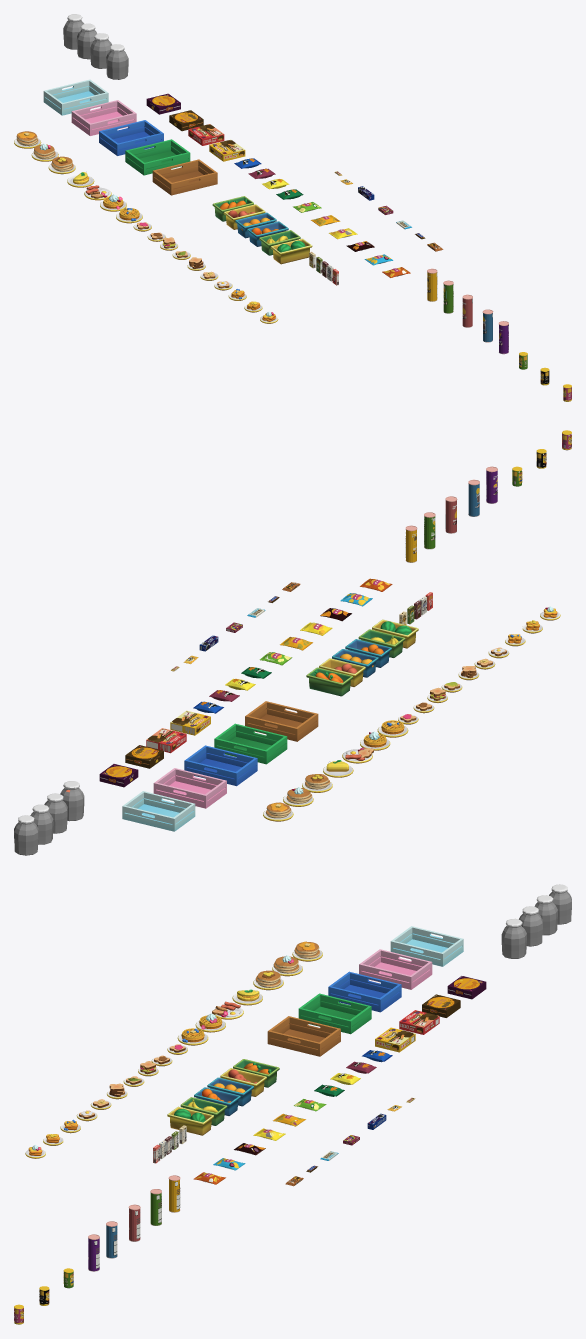
Rendered from kitchen_01.FBX.
3 renders of one model, top to bottom at view 1: azimuth 30°, elevation 25°; view 2: azimuth 150°, elevation 25°; view 3: azimuth 330°, elevation 25°, orthographic. The views are drawn at different scales.
Visible parts, largest first — view 1: WoodCrate_Large, WoodCrate_Large004, WoodCrate_Large001, WoodCrate_Large003, WoodCrate_Large002, watermelons, bottle_01, bottle_02, snacks01, snacks026, bottle_03, bottle_04 (+7 smaller); view 2: WoodCrate_Large004, WoodCrate_Large003, WoodCrate_Large, WoodCrate_Large002, WoodCrate_Large001, carrot, bottle_04, bottle_01, snacks026, snacks01, bottle_03, bottle_02 (+7 smaller); view 3: WoodCrate_Large, WoodCrate_Large004, WoodCrate_Large003, WoodCrate_Large001, WoodCrate_Large002, watermelons, bottle_01, bottle_02, snacks01, snacks026, bottle_03, snacks03 (+7 smaller).
Boxes of the visible parts, bbox=[...] form: WoodCrate_Large: bbox=[152, 159, 217, 195]; WoodCrate_Large004: bbox=[43, 79, 108, 115]; WoodCrate_Large001: bbox=[125, 139, 190, 175]; WoodCrate_Large003: bbox=[71, 100, 136, 135]; WoodCrate_Large002: bbox=[99, 120, 163, 155]; watermelons: bbox=[270, 238, 312, 264]; bottle_01: bbox=[106, 44, 128, 79]; bottle_02: bbox=[90, 33, 111, 68]; snacks01: bbox=[188, 124, 224, 145]; snacks026: bbox=[209, 139, 245, 161]; bottle_03: bbox=[76, 23, 97, 59]; bottle_04: bbox=[63, 14, 84, 49]; WoodCrate_Large004: bbox=[122, 791, 195, 831]; WoodCrate_Large003: bbox=[153, 768, 226, 808]; WoodCrate_Large: bbox=[245, 701, 318, 741]; WoodCrate_Large002: bbox=[184, 745, 257, 786]; WoodCrate_Large001: bbox=[214, 723, 287, 764]; carrot: bbox=[306, 667, 352, 696]; bottle_04: bbox=[14, 815, 38, 855]; bottle_01: bbox=[60, 781, 84, 821]; snacks026: bbox=[170, 710, 210, 735]; snacks01: bbox=[146, 728, 186, 753]; bottle_03: bbox=[30, 804, 53, 844]; bottle_02: bbox=[44, 793, 67, 833]; WoodCrate_Large: bbox=[267, 1016, 340, 1056]; WoodCrate_Large004: bbox=[390, 926, 463, 966]; WoodCrate_Large003: bbox=[359, 949, 432, 989]; WoodCrate_Large001: bbox=[298, 993, 371, 1034]; WoodCrate_Large002: bbox=[328, 971, 401, 1012]; watermelons: bbox=[167, 1106, 213, 1135]; bottle_01: bbox=[501, 918, 526, 958]; bottle_02: bbox=[519, 906, 542, 946]; snacks01: bbox=[399, 1010, 439, 1034]; snacks026: bbox=[375, 1027, 415, 1052]; bottle_03: bbox=[534, 895, 557, 935]; snacks03: bbox=[447, 976, 486, 999].
Bounding box in the file's own units: 158 × 21.17 × 629.
